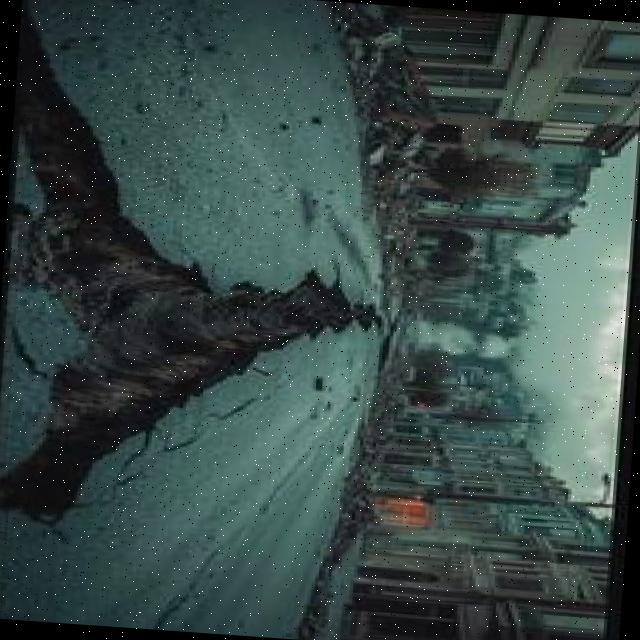road collapse: (0, 0, 543, 618)
